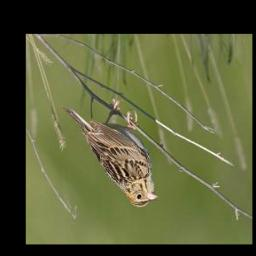Sparrow: (63, 97, 159, 208)
